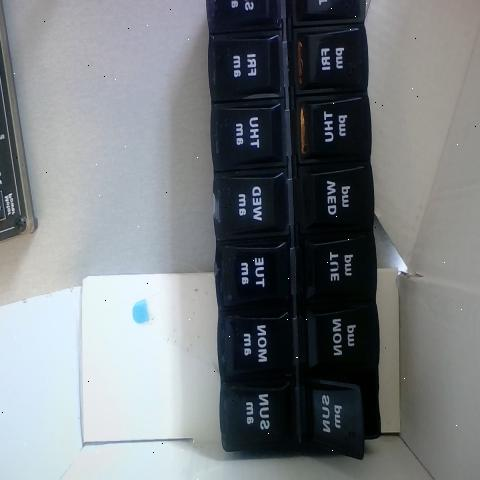FRI-am: (210, 33, 277, 96)
FRI-pm: (298, 27, 364, 94)
MON-am: (219, 315, 288, 376)
MON-pm: (310, 304, 378, 370)
Open: (313, 371, 379, 457)
SUN-am: (221, 381, 292, 447)
SUN-pm: (305, 386, 359, 453)
THU-am: (209, 99, 283, 167)
THU-pm: (297, 94, 368, 163)
TUE-am: (217, 240, 286, 306)
TUE-pm: (306, 237, 374, 296)
WED-am: (213, 174, 284, 236)
WED-pm: (305, 166, 371, 233)
